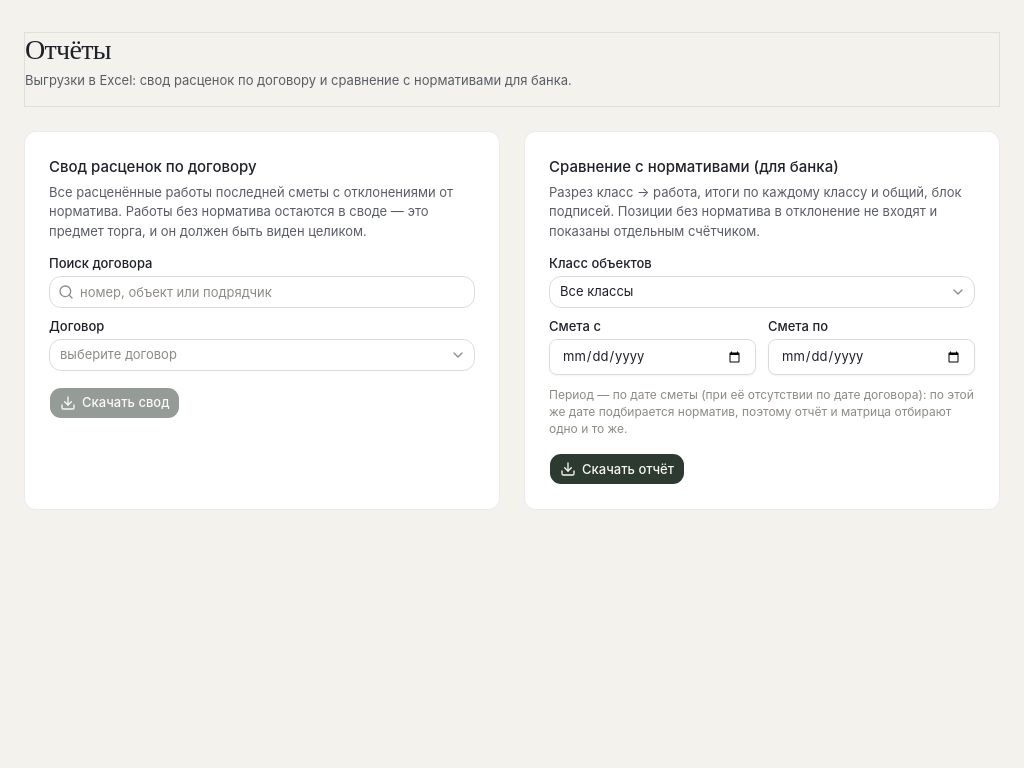
Scenario: Экран отчётов › отказ без разбираемого тела всё равно объясняется по-русски
Expected: the heading "Сравнение с нормативами (для банка)" is shown, [549,157,839,176]
Click the button "Скачать отчёт": (617, 470) [549,454,685,486]
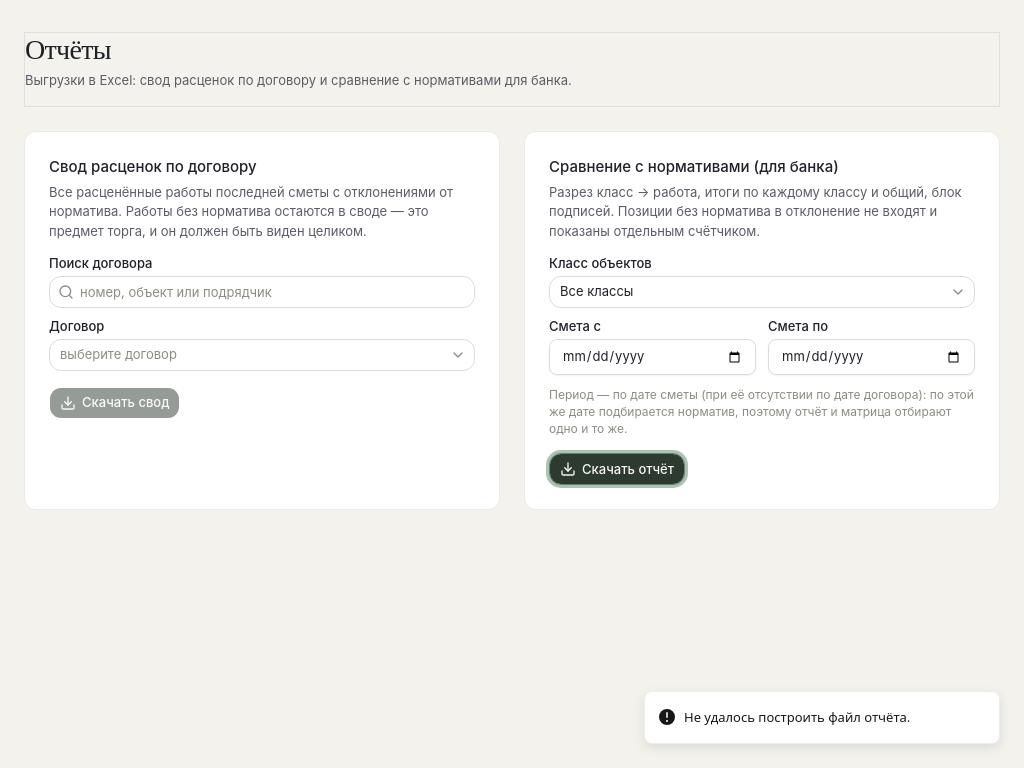
Result: the text "Не удалось построить файл отчёта." is shown at [684,708,910,727]
